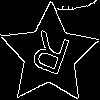R: (24, 30, 73, 85)
